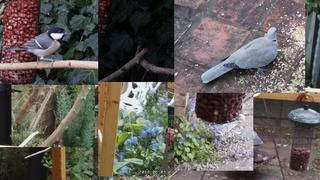collared dove: (201, 27, 278, 84)
great tit: (4, 27, 72, 68)
